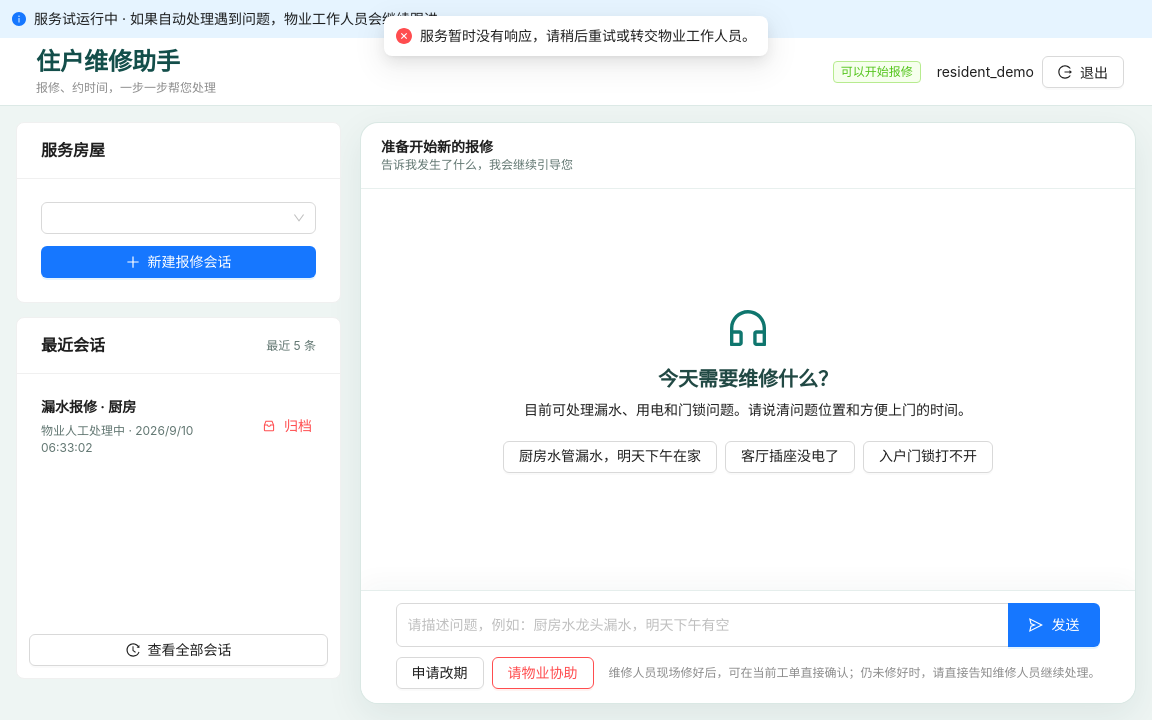
opens a recent conversation with immediate loading feedback
Click the button "漏水报修 · 厨房 物业人工处理中 · 2026/9/10 06:33:02" at (136, 426), box [29,385,242,468]
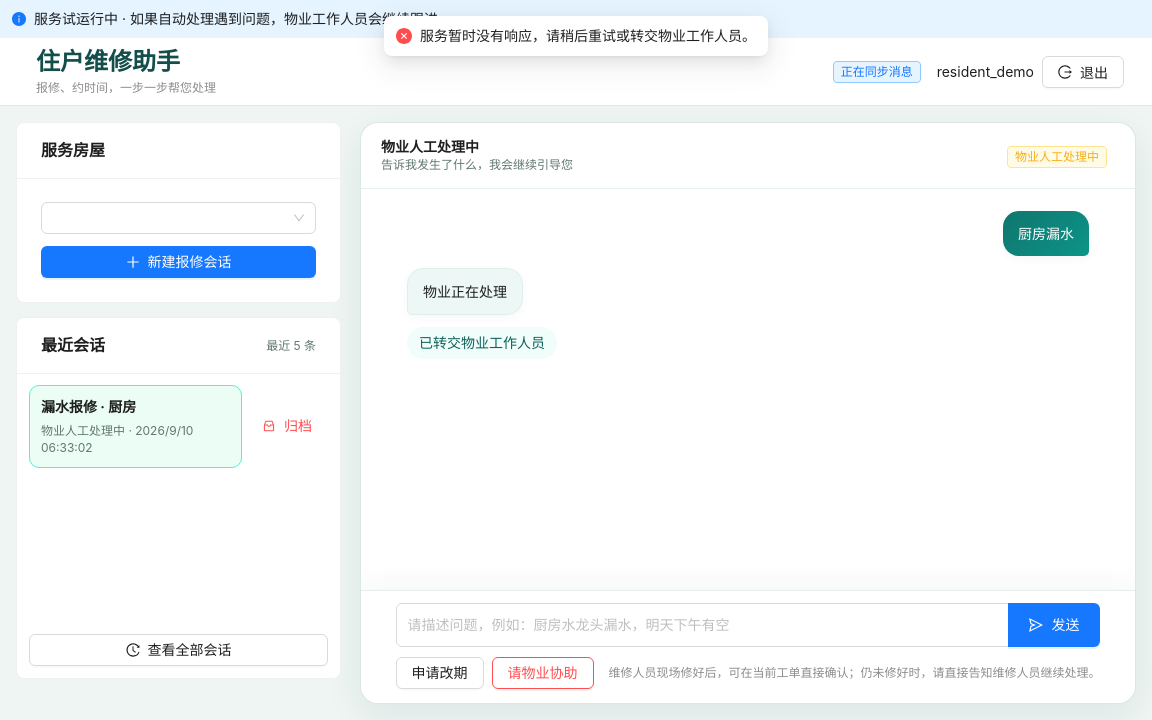
Expected: the text "正在打开会话…" is shown, [41,423,193,455]
Result: the text "厨房漏水" is shown at [1003,211,1089,256]
Result: the text "物业正在处理" is shown at [407,268,523,315]
